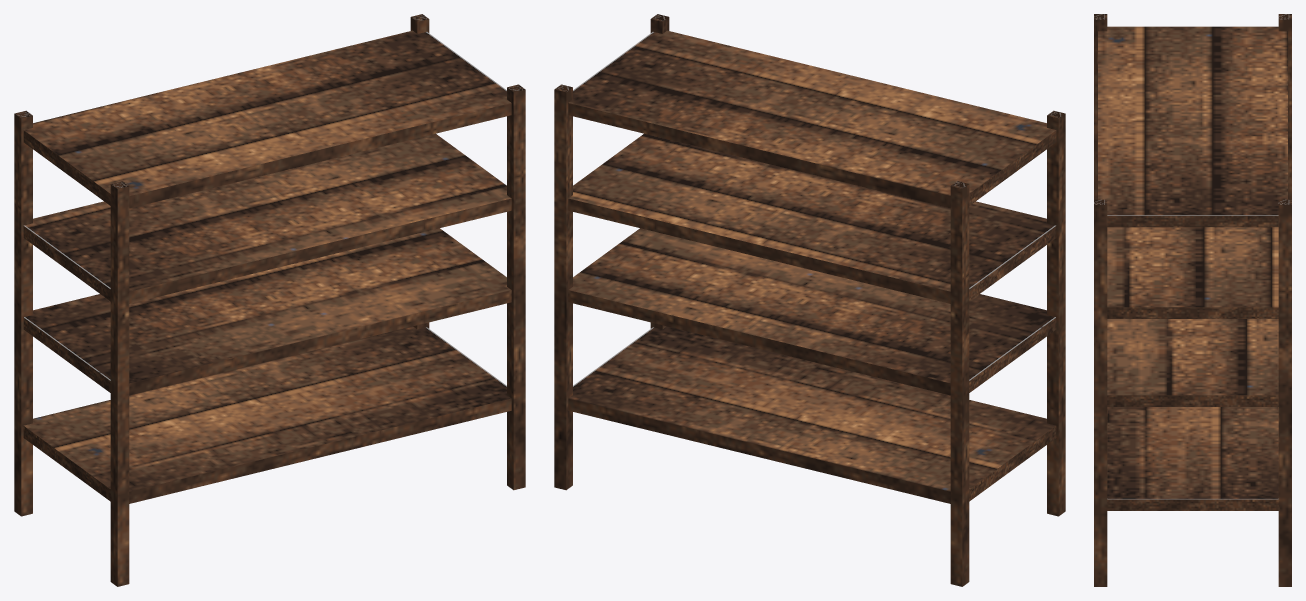
Rendered from SM_Dungeon_Shelf_Wide.fbx.
3 views of the same model, side by side, from view 1: azimuth 30°, elevation 25°; view 2: azimuth 150°, elevation 25°; view 3: azimuth 270°, elevation 25° (orthographic). The views are drawn at different scales.
Visible parts, largest first — view 1: Cube.001; view 2: Cube.001; view 3: Cube.001.
Part boxes in pixels (x1,y1,x2,y2): Cube.001: (14, 14, 525, 586); Cube.001: (554, 14, 1065, 586); Cube.001: (1094, 14, 1291, 586).
Bounding box in the file's own units: 190 × 177 × 83.3.
